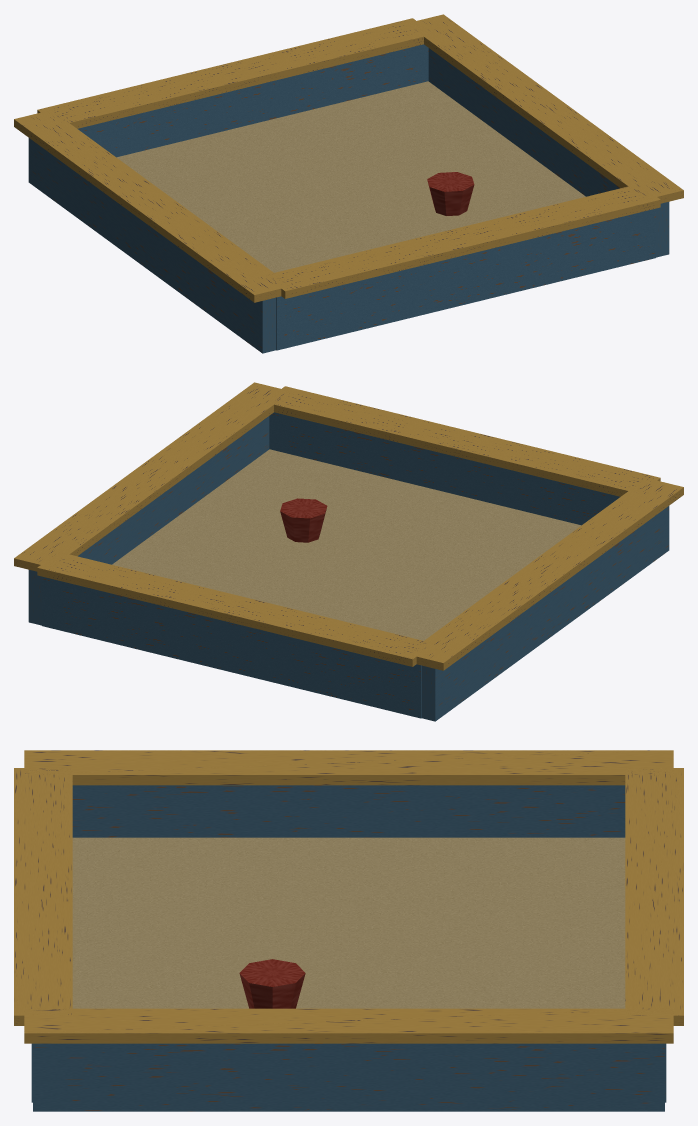
File: CIS_Sandbox.obj
The picture shows the model from 3 angles, top to bottom: view 1: azimuth 30°, elevation 25°; view 2: azimuth 150°, elevation 25°; view 3: azimuth 270°, elevation 25°; orthographic projection. The views are drawn at different scales.
Parts seen in each view (by area): view 1: CIS_Sandbox; view 2: CIS_Sandbox; view 3: CIS_Sandbox.
Boxes of the visible parts, x1,y1,x2,y2 form: CIS_Sandbox: [14, 14, 683, 353]; CIS_Sandbox: [14, 382, 683, 721]; CIS_Sandbox: [14, 750, 683, 1111].
Bounding box in the file's own units: 2.63 × 0.3725 × 2.63.
Materials: 4 (4 with a texture image).
